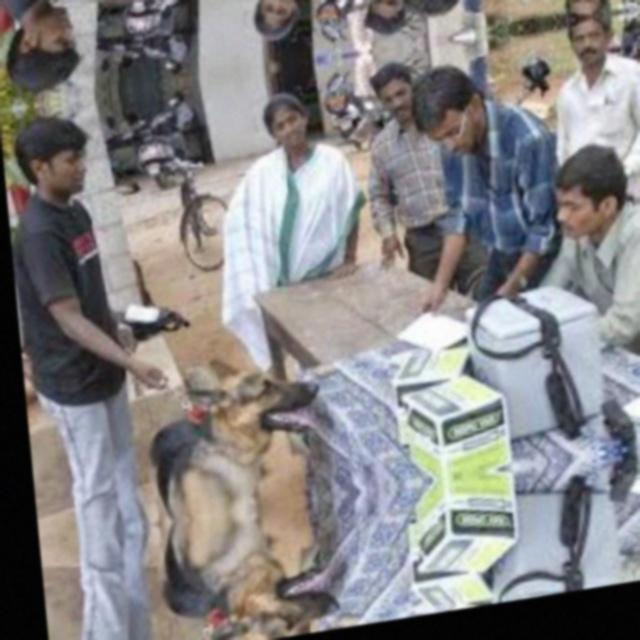dog: (154, 350, 338, 522), (168, 495, 350, 640)
person: (8, 92, 162, 542), (416, 48, 570, 318), (226, 75, 372, 314), (553, 140, 640, 379), (550, 4, 640, 172), (48, 523, 175, 640), (0, 0, 122, 108), (212, 0, 348, 53), (588, 512, 640, 588)
